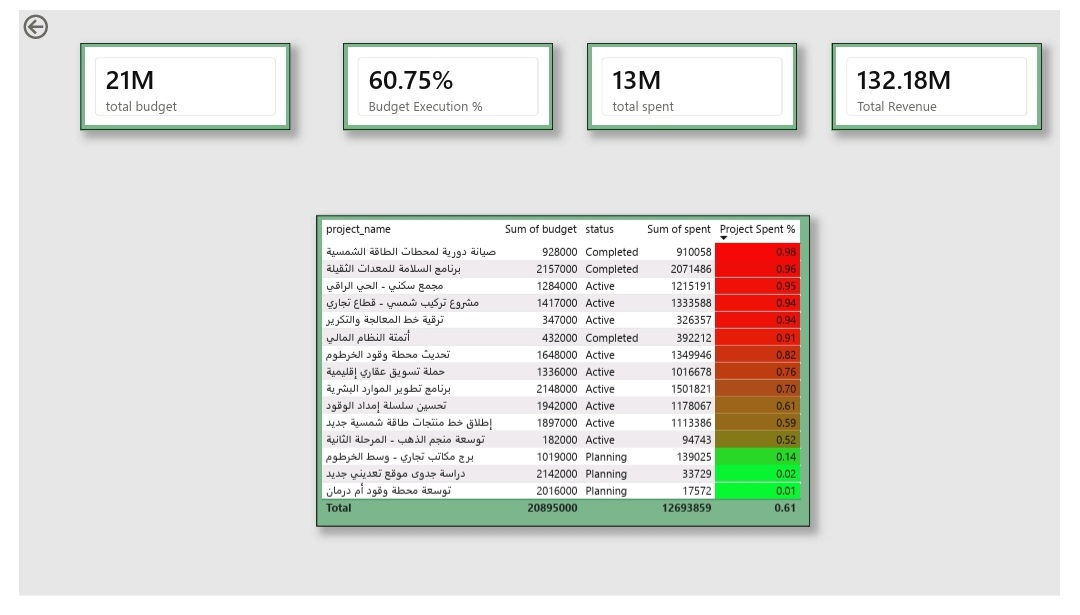

The page's visual inventory and layout, read from the dashboard file:
{"tool":"powerbi","page":{"name":"Department Details","canvas":[1280,720],"ordinal":2},"visuals":[{"type":"actionButton","box":[0,0,100,40],"z":0},{"type":"cardVisual","fields":{"Data":["key measures.Total Revenue"]},"box":[999,39.8,258,107],"z":1},{"type":"cardVisual","fields":{"Data":["key measures.total budget"]},"box":[75.5,39.8,258,107],"z":2},{"type":"cardVisual","fields":{"Data":["key measures.total spent"]},"box":[698.5,39.8,258,107],"z":3},{"type":"cardVisual","fields":{"Data":["key measures.Budget Execution %"]},"box":[397.9,39.8,258,107],"z":4},{"type":"tableEx","fields":{"Values":["projects.project_name","Sum(projects.budget)","projects.status","Sum(projects.spent)","calendar.Project Spent %"]},"box":[365,252.5,580.4,382.8],"z":5}]}

Visuals, with their boxes in screenshot pixels (x1, y1, x2, y2):
actionButton: locate(11, 6, 94, 39)
cardVisual - key measures.Total Revenue: locate(843, 39, 1057, 128)
cardVisual - key measures.total budget: locate(74, 39, 289, 128)
cardVisual - key measures.total spent: locate(592, 39, 807, 128)
cardVisual - key measures.Budget Execution %: locate(342, 39, 557, 128)
tableEx - projects.project_name x Sum(projects.budget): locate(315, 216, 798, 534)
